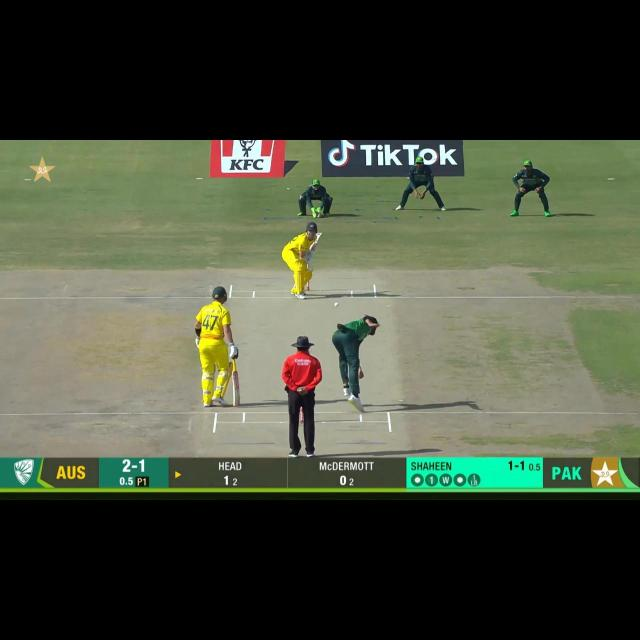bat: (231, 372, 242, 406), (313, 232, 322, 248)
toe: (315, 231, 324, 239), (233, 397, 240, 406)
